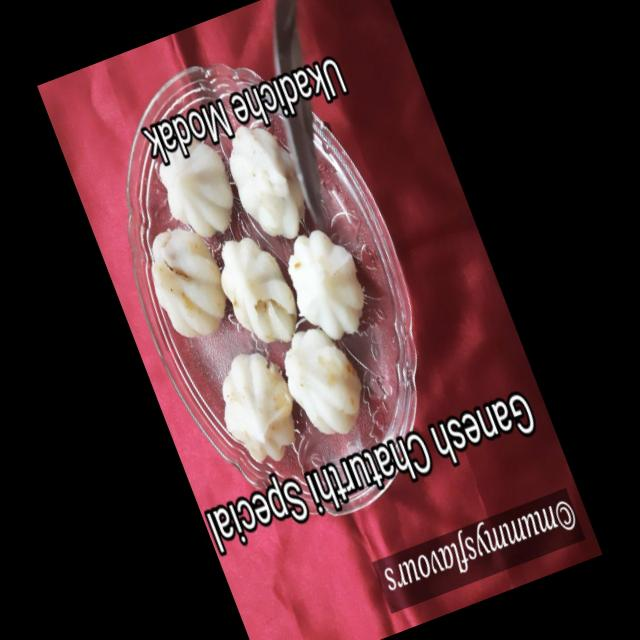modak: (197, 332, 326, 502), (258, 208, 388, 365), (142, 117, 259, 266), (215, 107, 332, 256), (134, 212, 242, 362), (209, 222, 316, 369), (266, 313, 379, 447)
